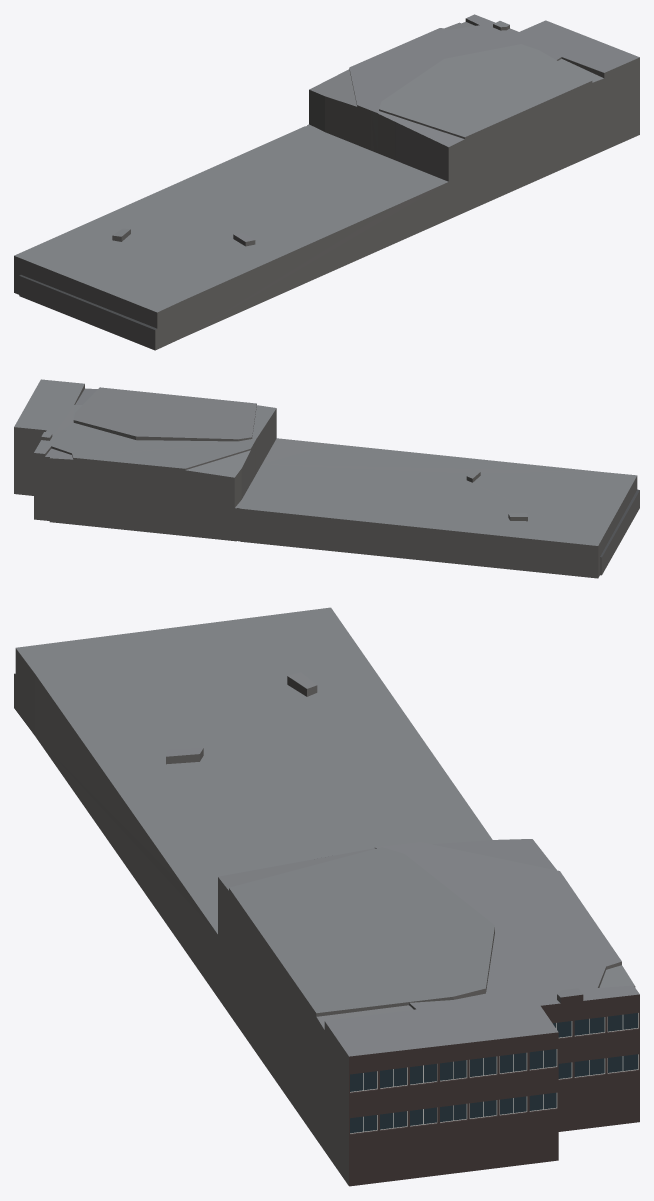
File: recipe-large-asterweg-19b-209785.glb
3 views of the same model, one above another, from view 1: azimuth 30°, elevation 25°; view 2: azimuth 150°, elevation 25°; view 3: azimuth 270°, elevation 25° (orthographic). The views are drawn at different scales.
Visible parts, largest first — view 1: asterweg-19b-209785; view 2: asterweg-19b-209785; view 3: asterweg-19b-209785.
Part boxes in pixels (x1,y1,x2,y2): asterweg-19b-209785: (14,14,639,350); asterweg-19b-209785: (14,379,639,578); asterweg-19b-209785: (14,607,639,1186).
Bounding box in the file's own units: 113 × 13.93 × 57.96.
